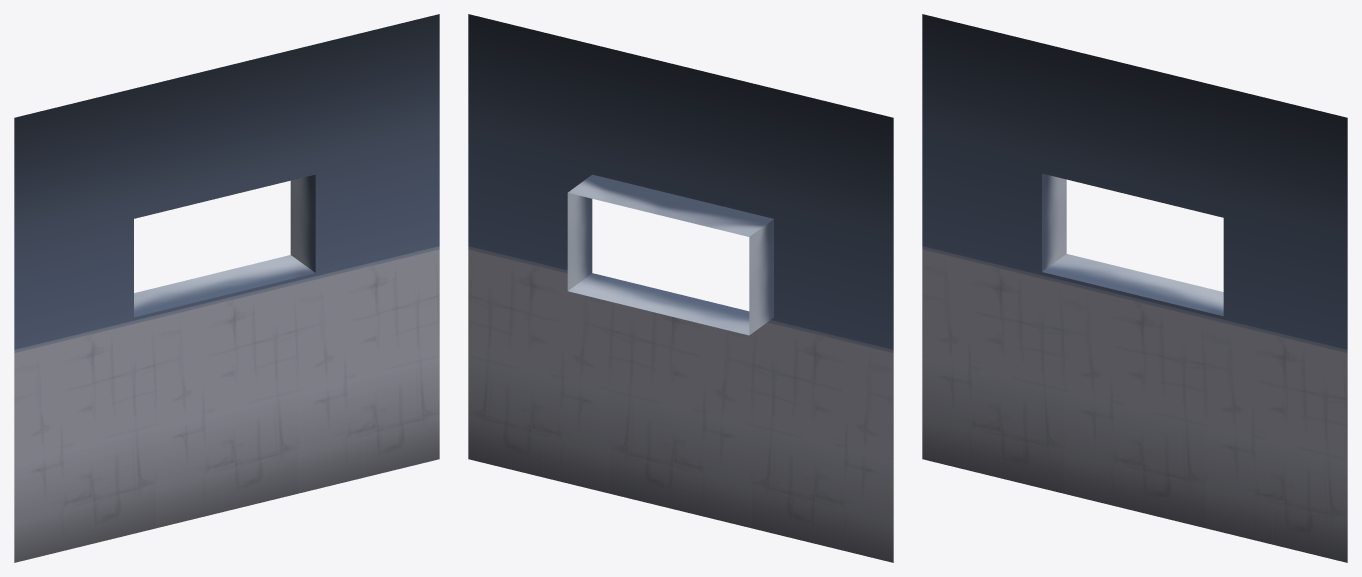
The model's file is walls_bathroom_window.fbx.
The picture shows the model from 3 angles, left to right: view 1: azimuth 30°, elevation 25°; view 2: azimuth 150°, elevation 25°; view 3: azimuth 330°, elevation 25°; orthographic projection.
Parts seen in each view (by area): view 1: walls_bathroom_attic.003; view 2: walls_bathroom_attic.003; view 3: walls_bathroom_attic.003.
Part boxes in pixels (x1,y1,x2,y2): walls_bathroom_attic.003: [14, 14, 439, 562]; walls_bathroom_attic.003: [468, 14, 893, 562]; walls_bathroom_attic.003: [922, 14, 1347, 562].
Bounding box in the file's own units: 3 × 3 × 0.303.
Materials: 1 (1 with a texture image).
